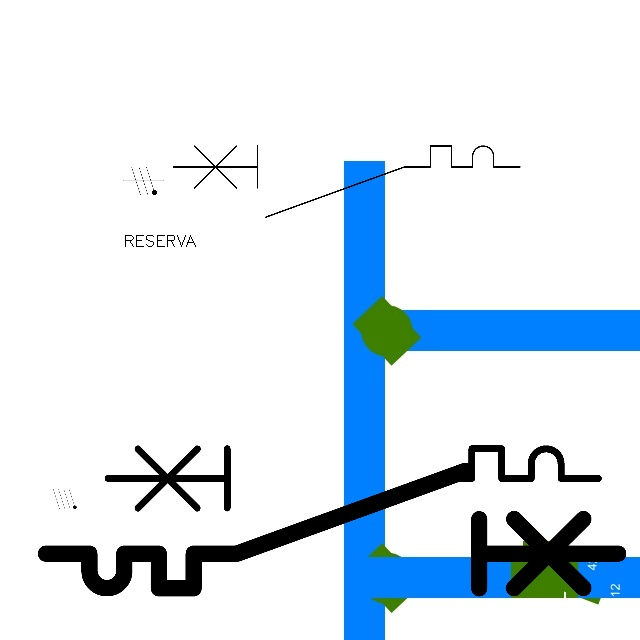interruptor_termomagnetico: (31, 456, 633, 603), (95, 436, 610, 562), (164, 137, 529, 226)
